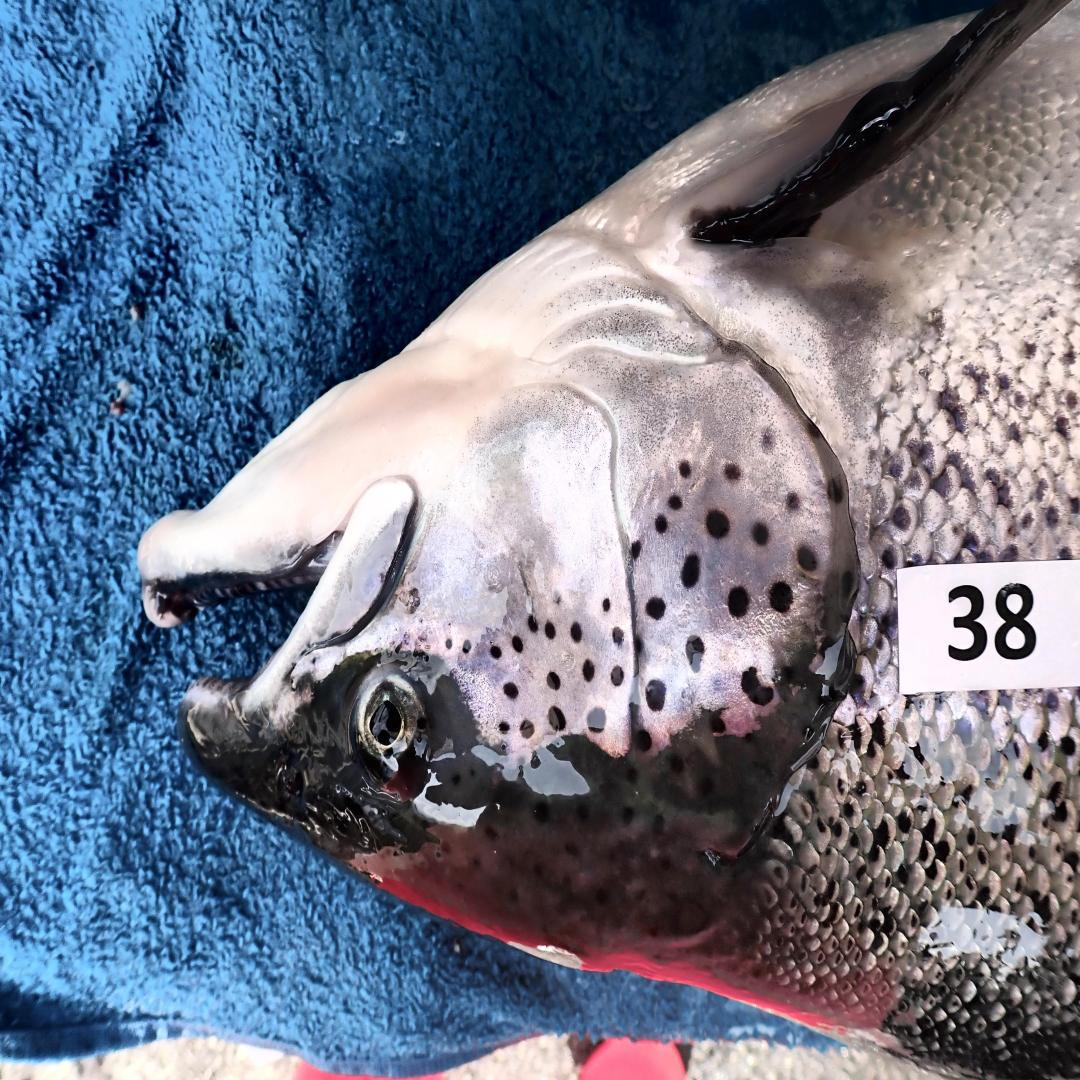spot: (740, 667, 774, 706), (699, 706, 728, 734), (728, 585, 749, 619), (707, 509, 730, 540), (770, 582, 793, 613), (686, 636, 705, 672), (645, 681, 667, 712), (681, 554, 700, 588), (797, 546, 818, 571), (633, 633, 645, 675), (586, 706, 605, 731), (548, 706, 567, 731), (842, 571, 858, 599), (751, 523, 770, 546), (645, 596, 664, 619), (635, 728, 652, 751), (761, 428, 776, 453), (405, 588, 420, 613), (828, 478, 843, 503), (785, 492, 802, 512), (724, 461, 740, 481), (582, 658, 595, 681), (654, 515, 669, 534), (504, 681, 519, 700), (610, 667, 624, 686), (521, 720, 534, 740), (546, 672, 561, 689), (612, 627, 624, 647), (570, 622, 582, 641), (679, 461, 692, 478), (527, 613, 538, 633), (544, 622, 557, 638), (631, 540, 641, 560), (601, 596, 612, 613), (489, 644, 502, 658), (669, 495, 681, 509), (498, 720, 510, 734), (513, 636, 523, 652), (462, 638, 472, 652), (445, 638, 454, 650), (554, 592, 561, 604)
